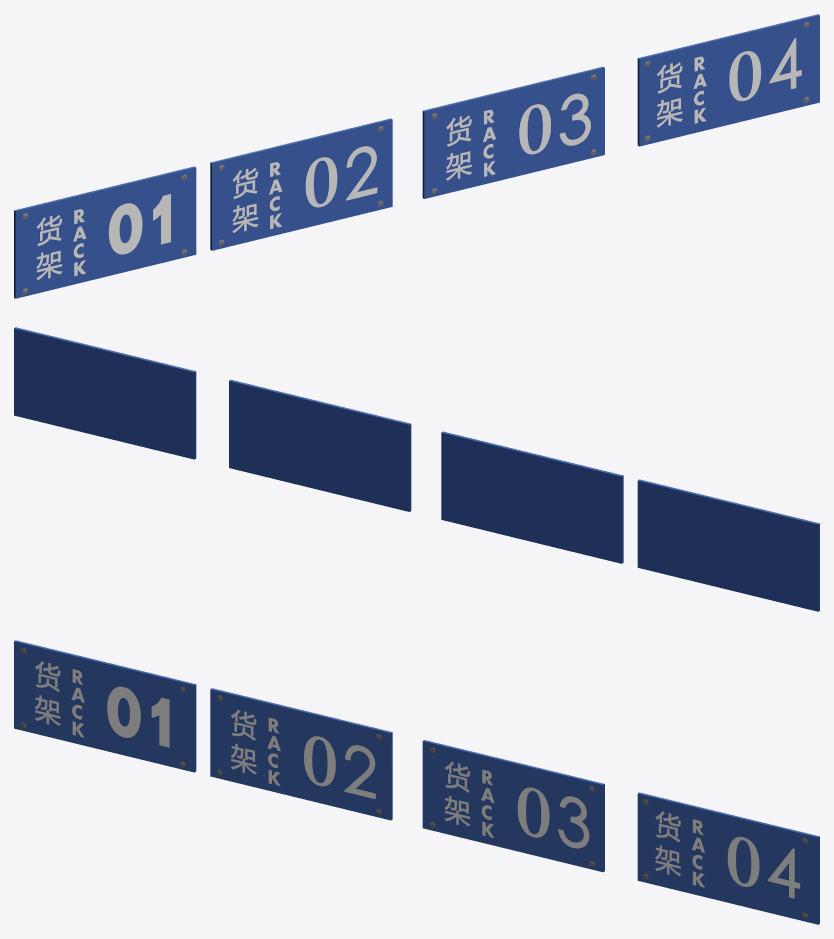
Rendered from YF_LingJianKu_BiaoPai_YiQi_HuoJia.FBX.
3 renders of one model, top to bottom at view 1: azimuth 30°, elevation 25°; view 2: azimuth 150°, elevation 25°; view 3: azimuth 330°, elevation 25°, orthographic.
Parts seen in each view (by area): view 1: YF_Model_biaopai2_02, YF_Model_biaopai2_03, YF_Model_biaopai2_01, YF_Model_biaopai2_04; view 2: YF_Model_biaopai2_02, YF_Model_biaopai2_03, YF_Model_biaopai2_01, YF_Model_biaopai2_04; view 3: YF_Model_biaopai2_02, YF_Model_biaopai2_03, YF_Model_biaopai2_01, YF_Model_biaopai2_04.
Boxes of the visible parts, x1=… form: YF_Model_biaopai2_02: x1=210, y1=118, x2=392, y2=250; YF_Model_biaopai2_03: x1=422, y1=66, x2=604, y2=198; YF_Model_biaopai2_01: x1=14, y1=166, x2=196, y2=298; YF_Model_biaopai2_04: x1=637, y1=14, x2=819, y2=146; YF_Model_biaopai2_02: x1=441, y1=431, x2=623, y2=563; YF_Model_biaopai2_03: x1=229, y1=379, x2=411, y2=511; YF_Model_biaopai2_01: x1=637, y1=479, x2=819, y2=611; YF_Model_biaopai2_04: x1=14, y1=327, x2=196, y2=459; YF_Model_biaopai2_02: x1=210, y1=688, x2=392, y2=820; YF_Model_biaopai2_03: x1=422, y1=740, x2=604, y2=872; YF_Model_biaopai2_01: x1=14, y1=640, x2=196, y2=772; YF_Model_biaopai2_04: x1=637, y1=792, x2=819, y2=924.
Size of the model in its own units: 290 by 30 by 1.
